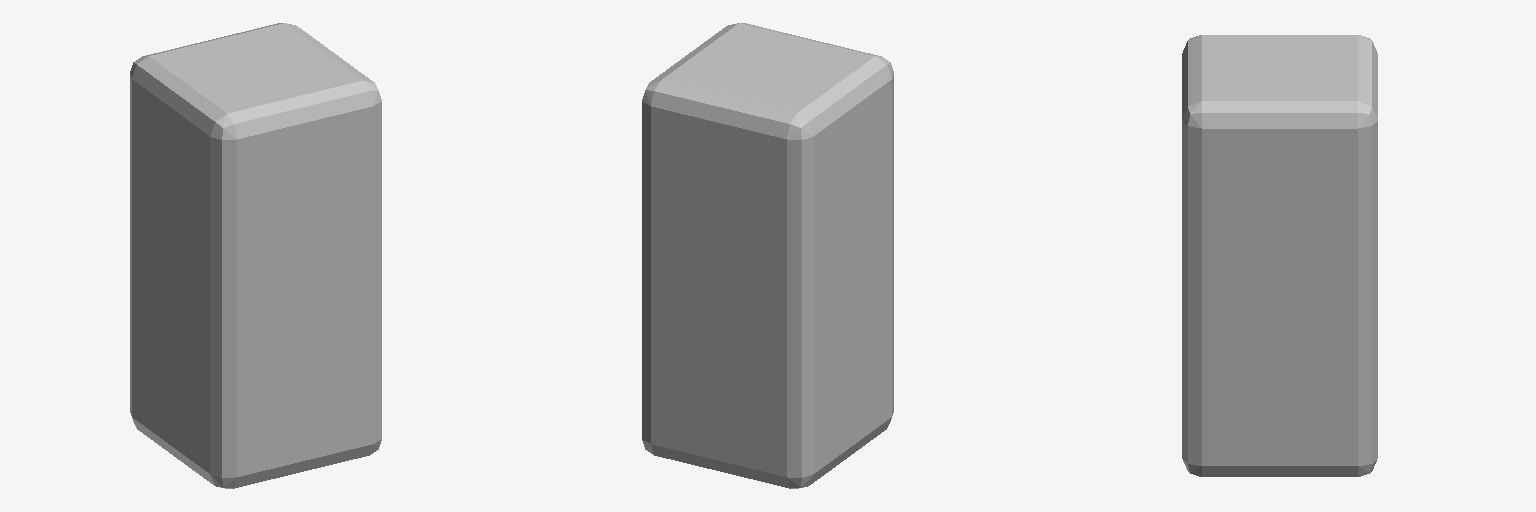
File: LeftLeg.obj
The picture shows the model from 3 angles: view 1: azimuth 30°, elevation 25°; view 2: azimuth 150°, elevation 25°; view 3: azimuth 270°, elevation 25°; orthographic projection.
Parts seen in each view (by area): view 1: LEFTLEG; view 2: LEFTLEG; view 3: LEFTLEG.
Boxes of the visible parts, x1,y1,x2,y2 form: LEFTLEG: [130, 23, 381, 488]; LEFTLEG: [642, 23, 893, 488]; LEFTLEG: [1182, 35, 1377, 476].
Bounding box in the file's own units: 1 × 2.11 × 1.